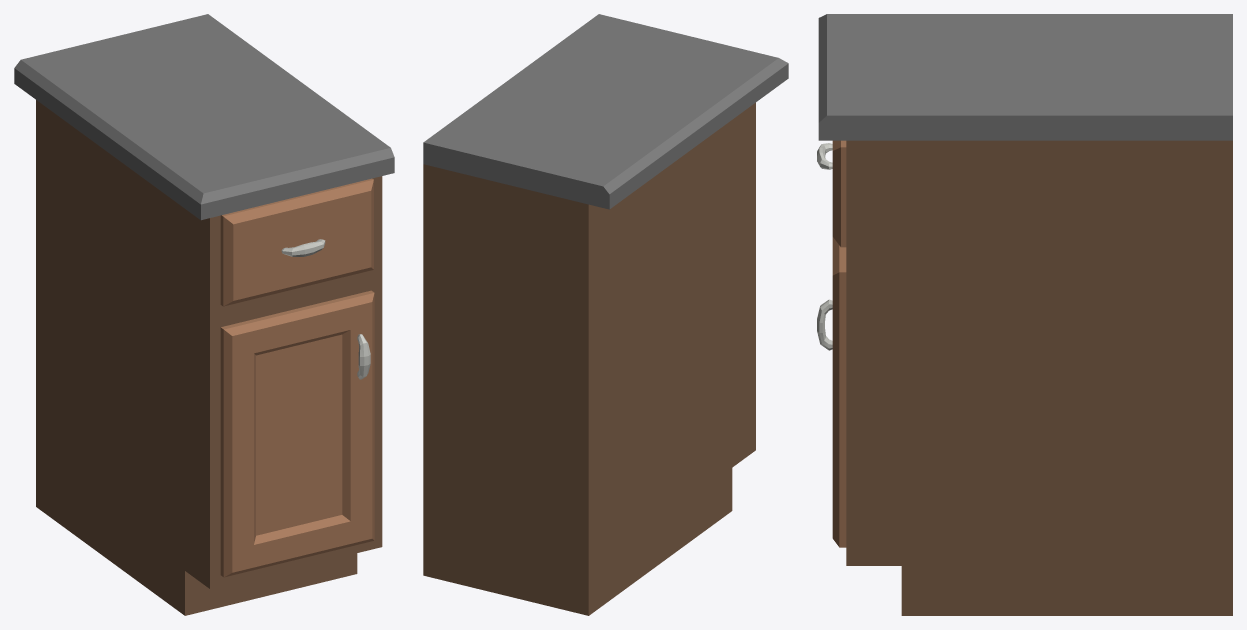
The model's file is Structure_Bathroom_Cabinet_End.obj.
The picture shows the model from 3 angles, left to right: view 1: azimuth 30°, elevation 25°; view 2: azimuth 150°, elevation 25°; view 3: azimuth 270°, elevation 25°; orthographic projection. The views are drawn at different scales.
Parts seen in each view (by area): view 1: object4, object2, object1, object3; view 2: object4, object2; view 3: object4, object2, object1, object3.
Boxes of the visible parts, bbox=[...] form: object4: bbox=[36, 100, 382, 615]; object2: bbox=[14, 14, 394, 220]; object1: bbox=[220, 290, 374, 577]; object3: bbox=[220, 178, 373, 306]; object4: bbox=[423, 102, 755, 615]; object2: bbox=[423, 14, 788, 209]; object4: bbox=[846, 140, 1232, 615]; object2: bbox=[818, 14, 1232, 140]; object1: bbox=[832, 237, 846, 547]; object3: bbox=[832, 140, 846, 247].
Size of the model in its own units: 0.45 by 1 by 0.7531.
